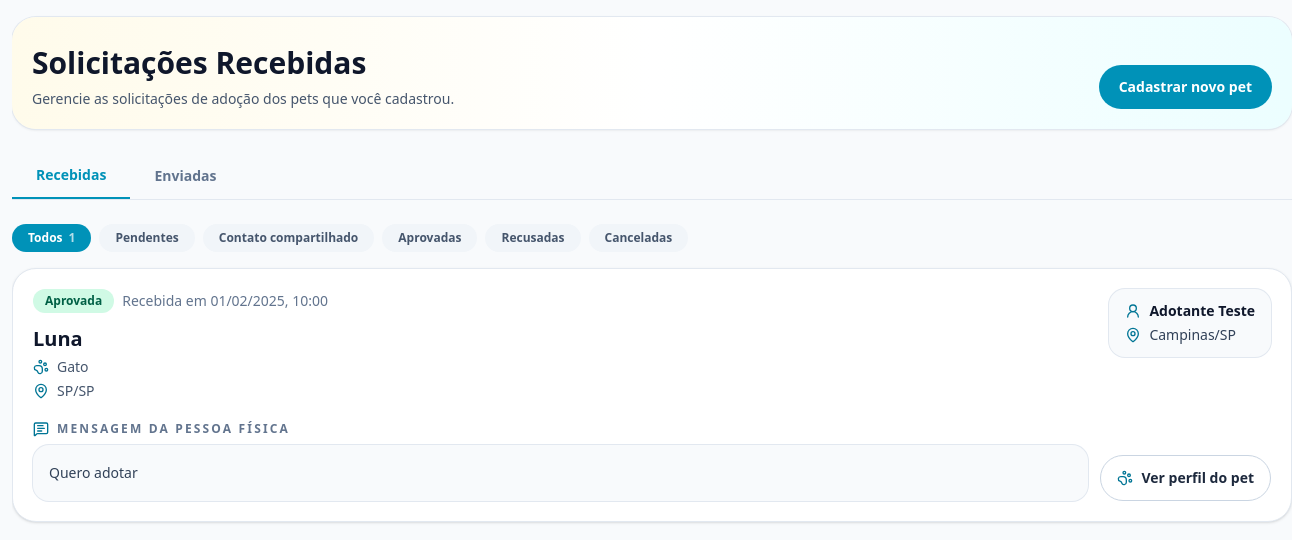
Scenario: AdoptionRequestsPage › exibe mensagem de vazio quando o filtro não retorna resultados
Click the button "Pendentes" at x=147, y=238, box top-left (99, 224), bottom-right (195, 252)
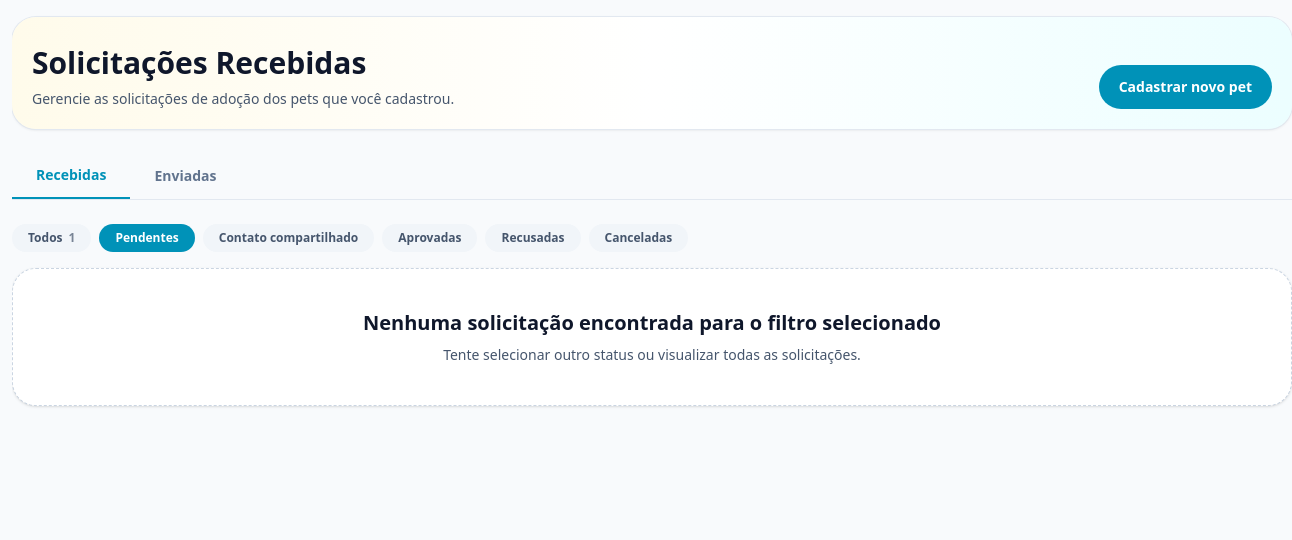
Now the heading "Nenhuma solicitação encontrada para o filtro selecionado" is shown, box top-left (363, 309), bottom-right (941, 336)
